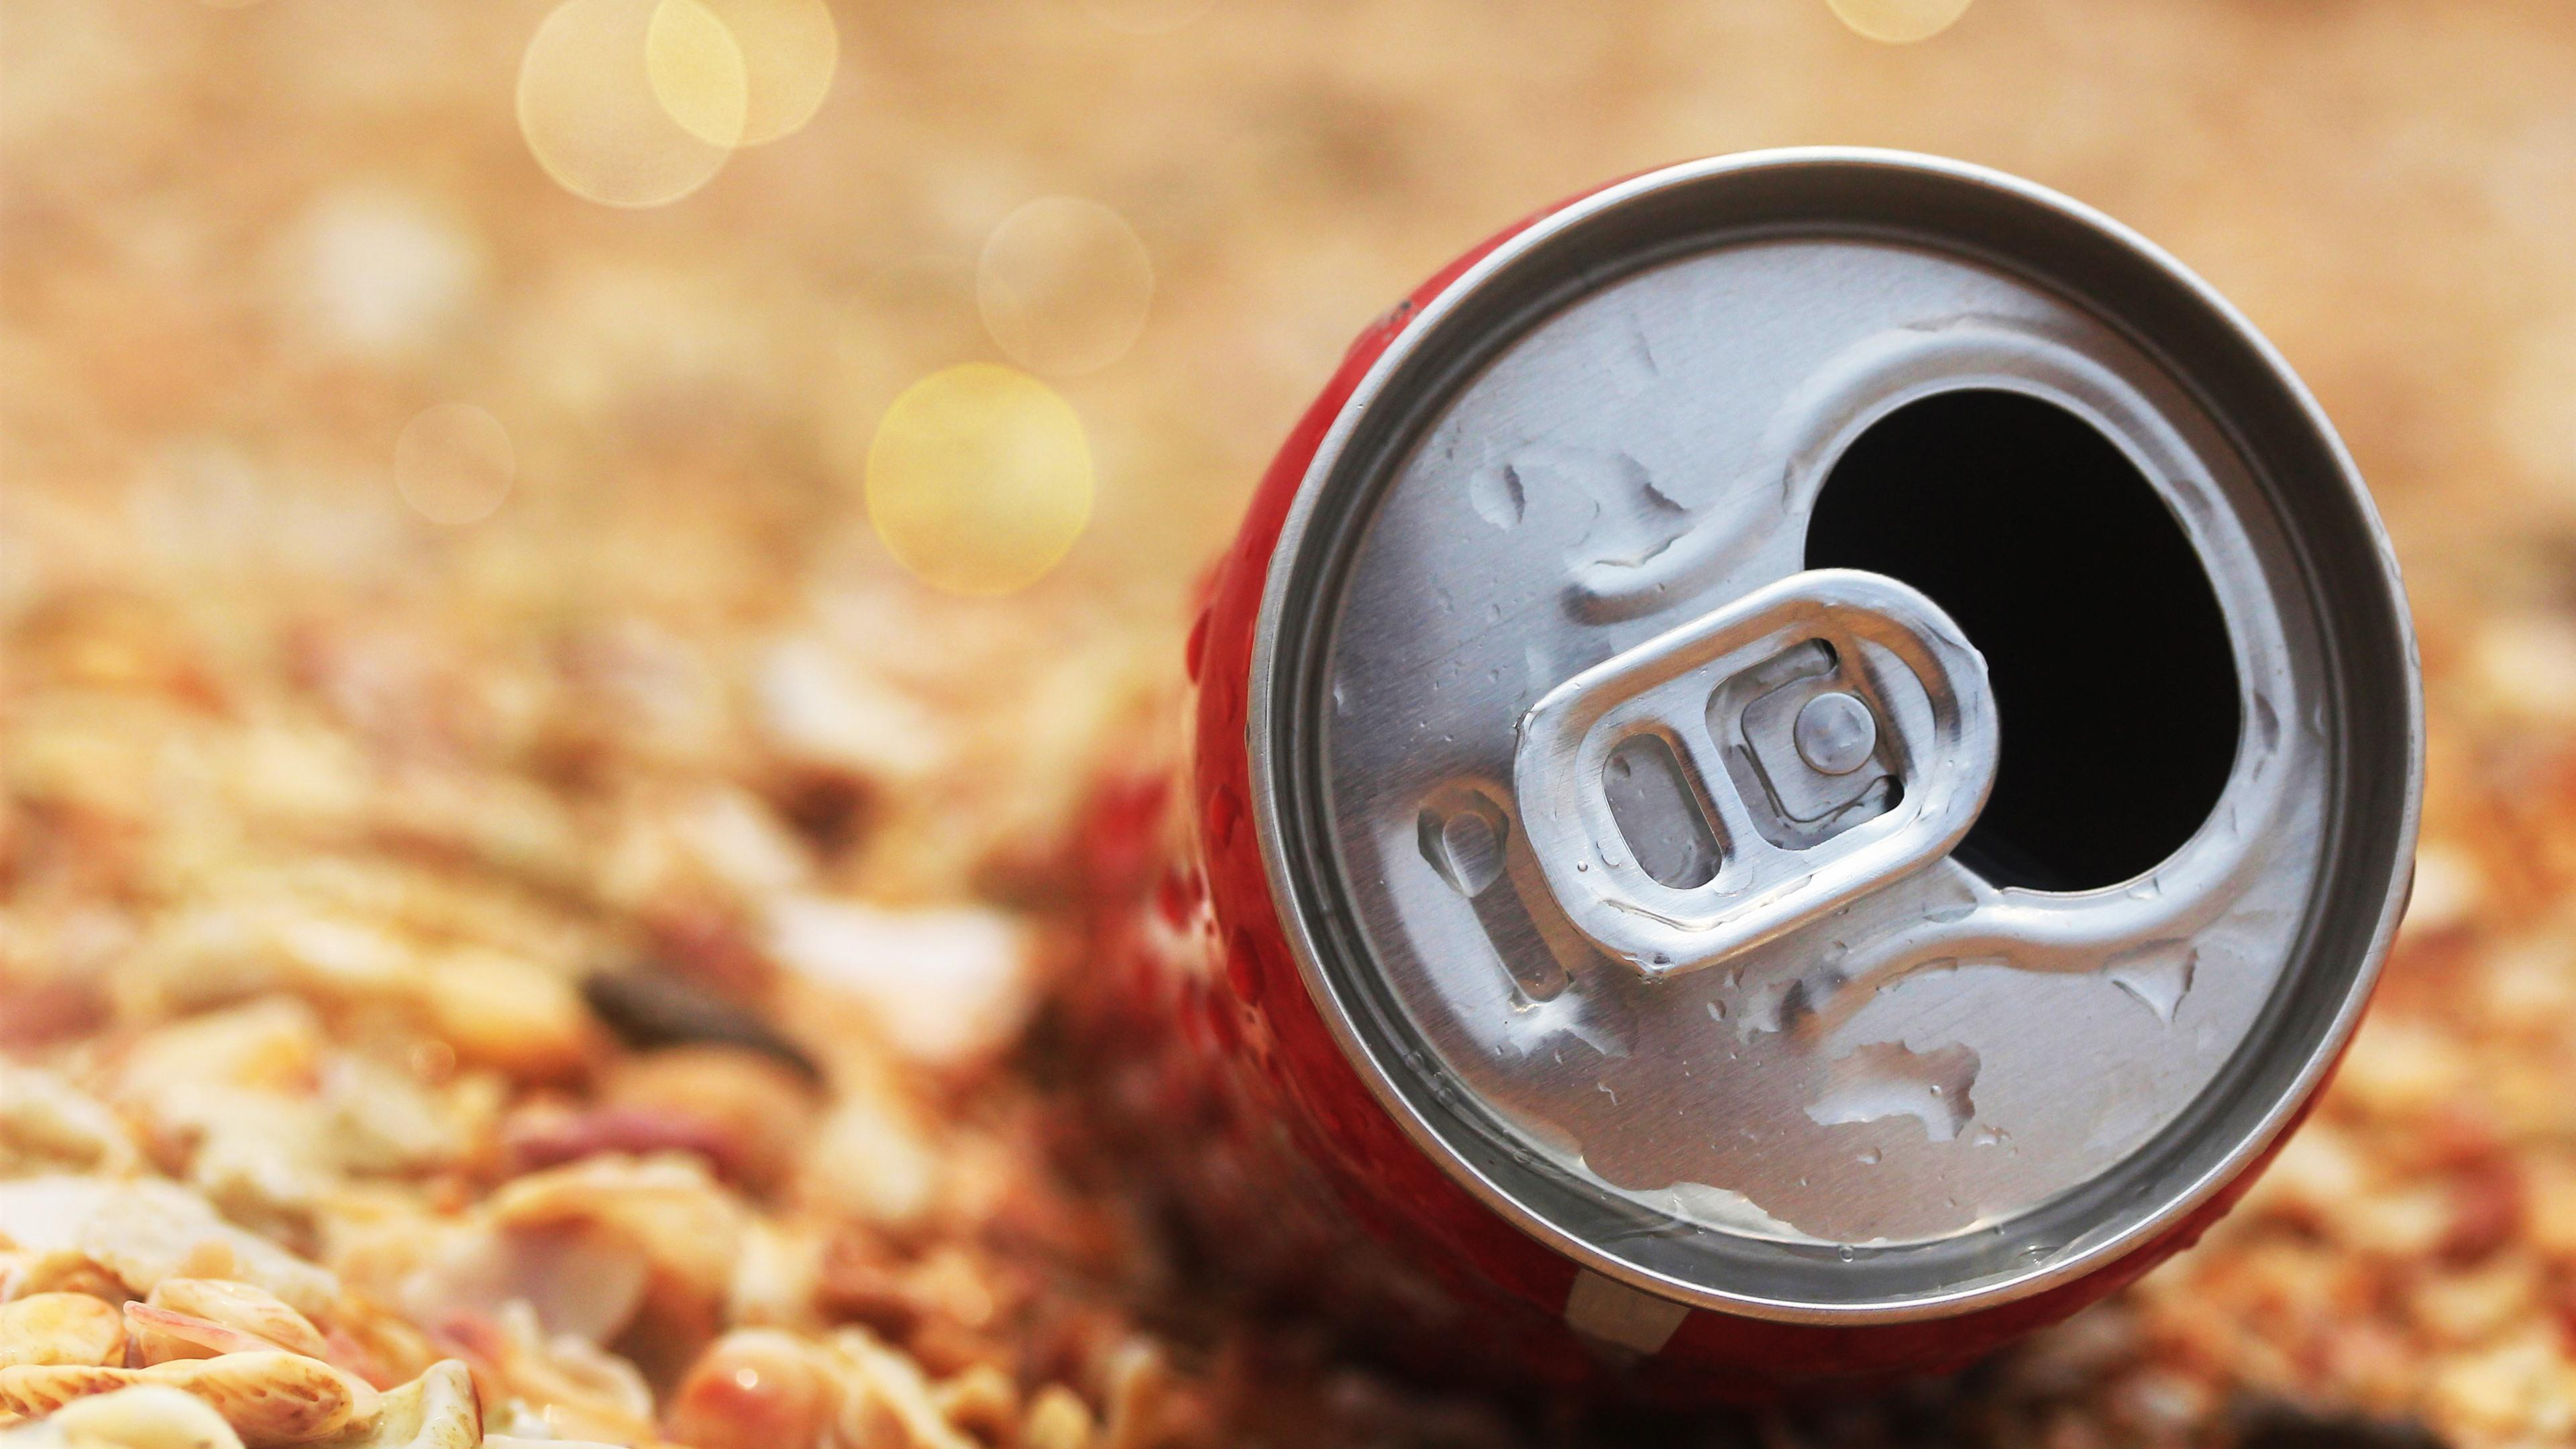metal: (1097, 111, 2431, 1445)
